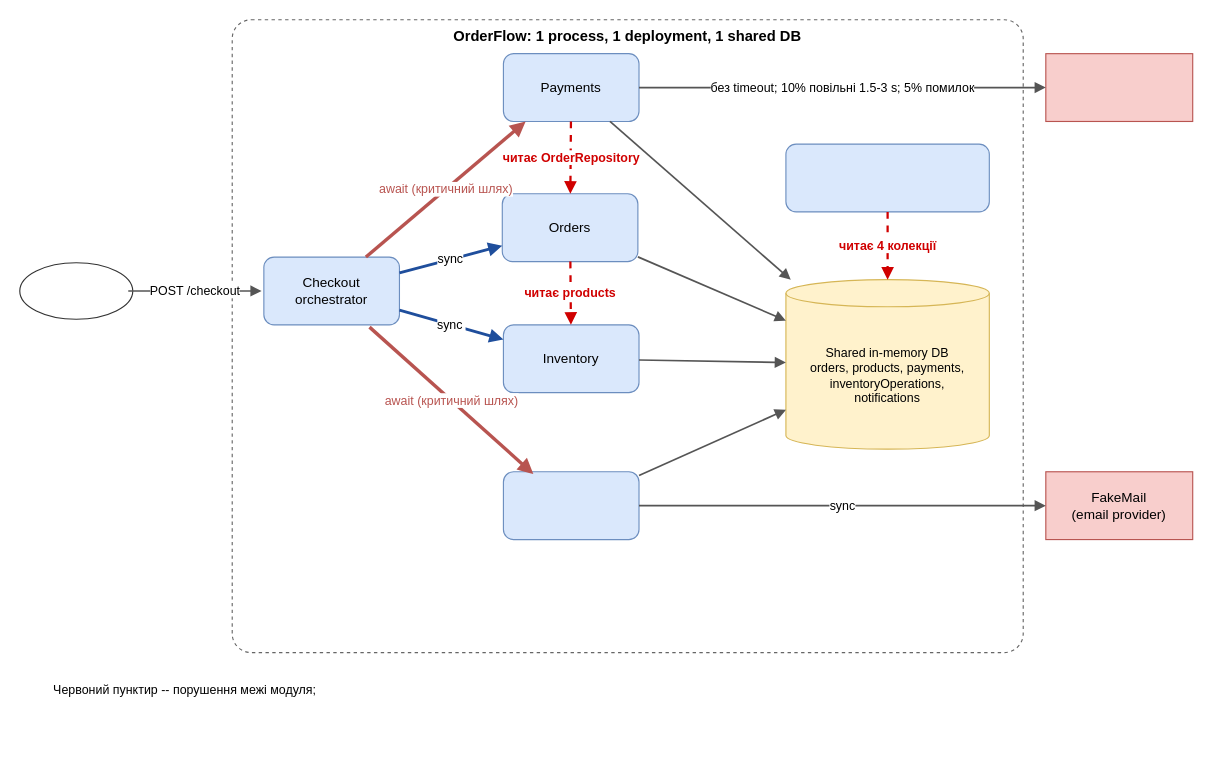
Image size: 1212x774. Some labels were removed from this diagram. Here are the shapes that lost their labels. From the top down, the box of each, then its label:
(1045, 53, 1193, 121): FakePay (payment provider)
(785, 143, 989, 212): Reporting
(19, 262, 133, 319): Client
(502, 471, 639, 540): Notifications
